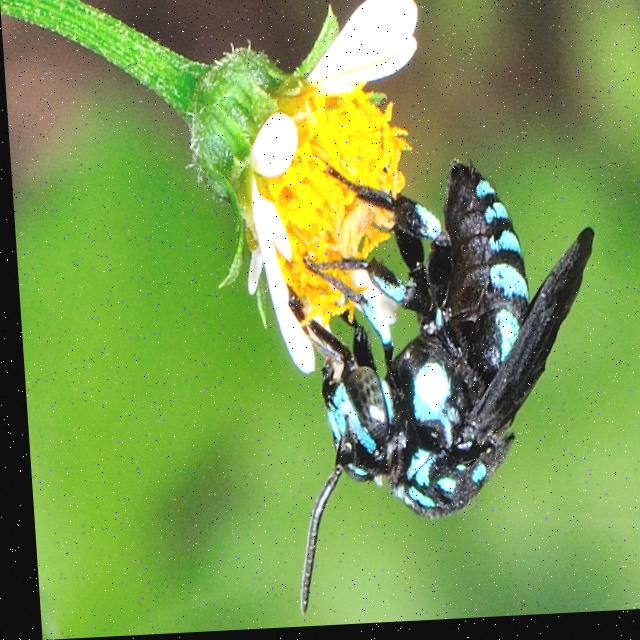Thyreus: (257, 140, 613, 630)
